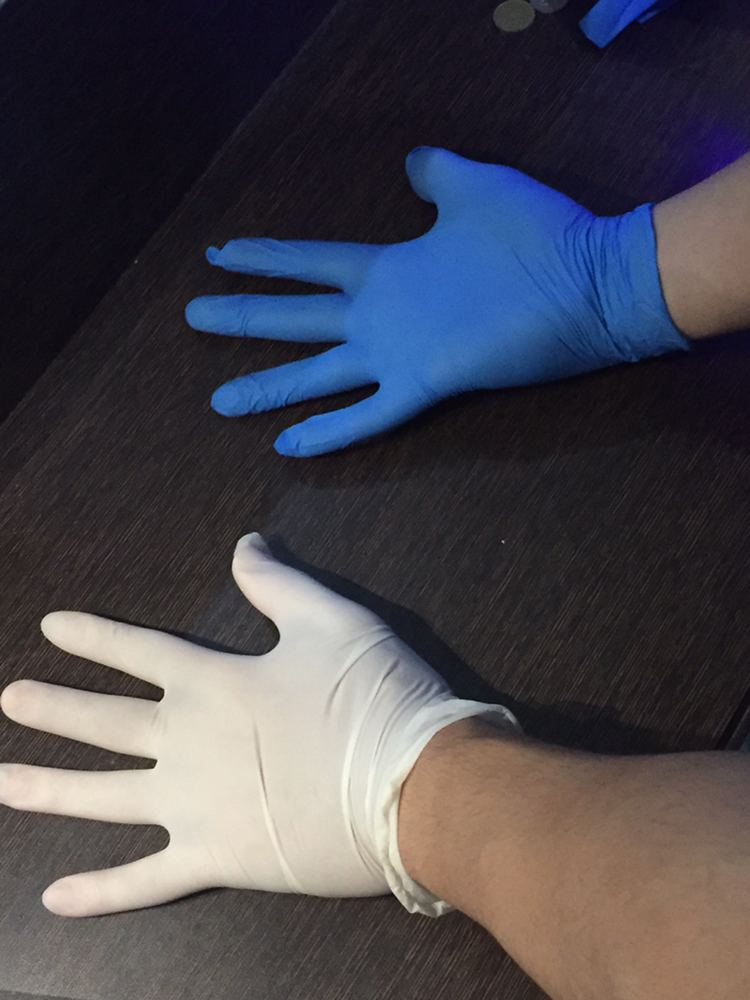glove: (173, 134, 661, 483)
